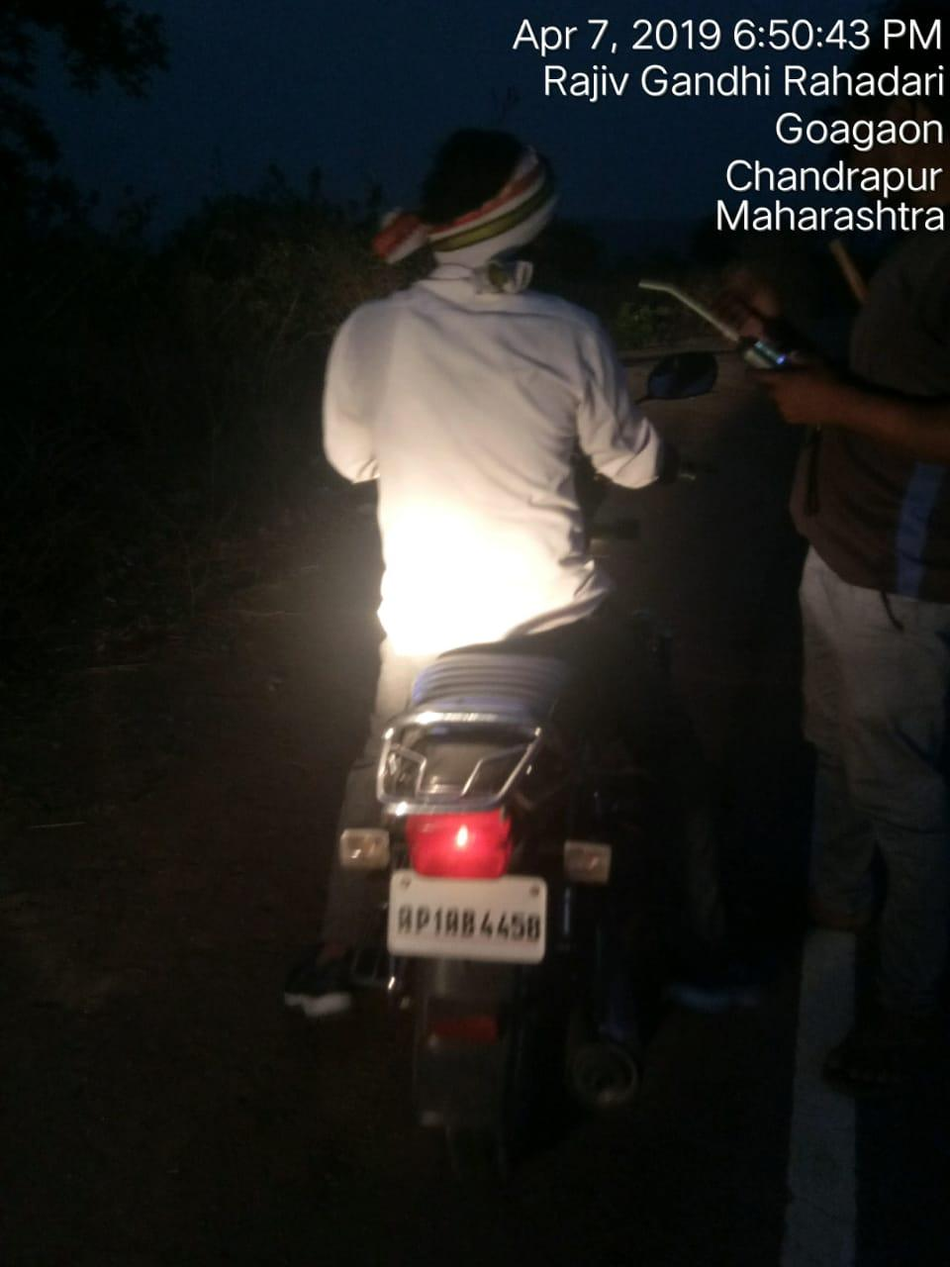plate: (372, 852, 580, 975)
